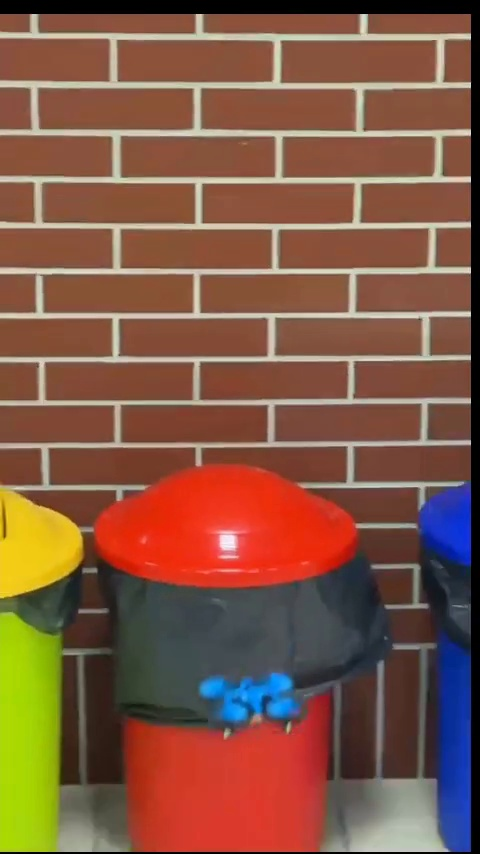drone: (202, 677, 313, 737)
